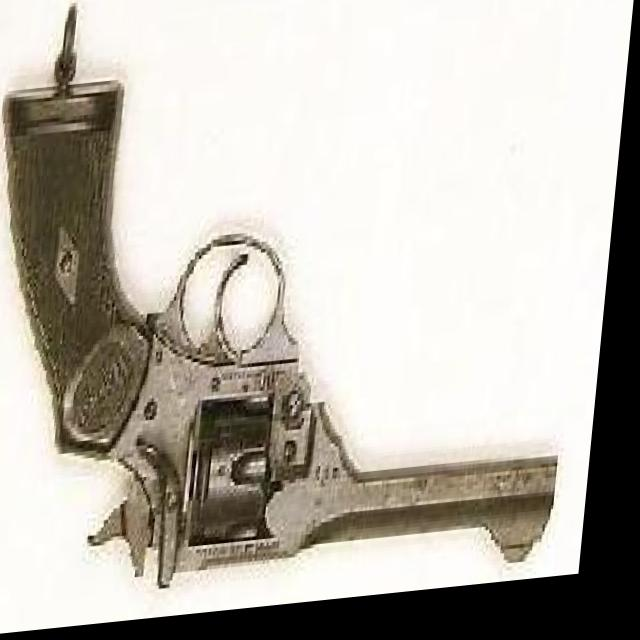handgun: (0, 43, 605, 629)
